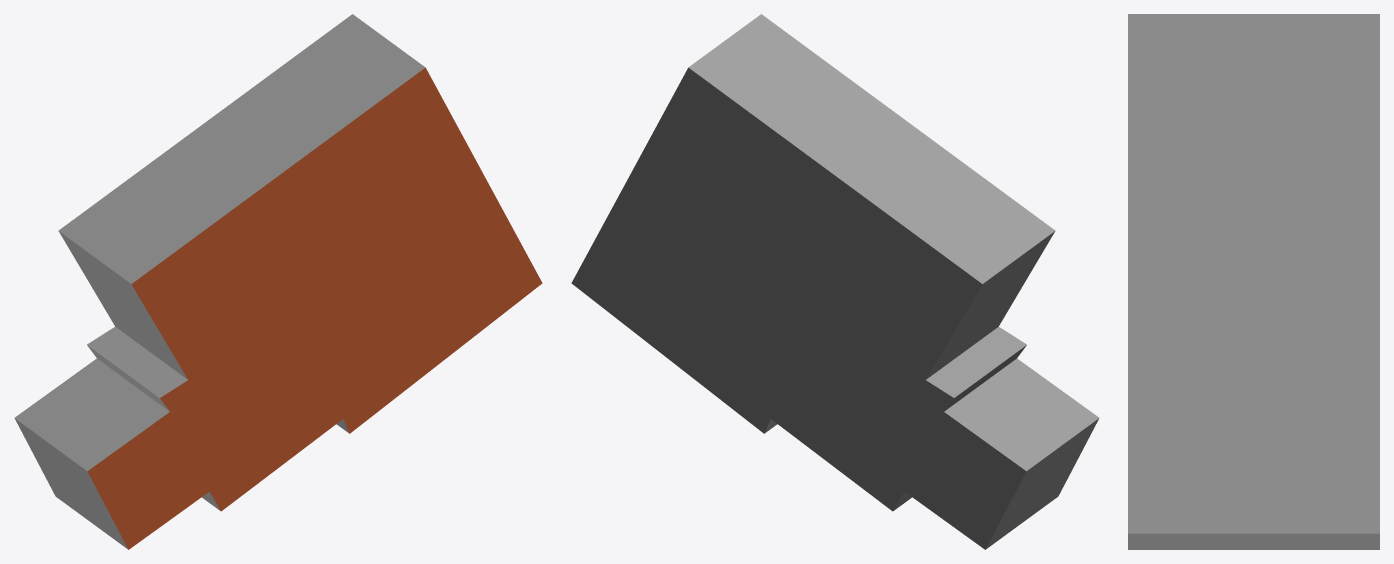
Rendered from construction_4130_assumed_A_Casa_h6m.obj.
3 views of the same model, side by side, from view 1: azimuth 30°, elevation 25°; view 2: azimuth 150°, elevation 25°; view 3: azimuth 270°, elevation 25° (orthographic). The views are drawn at different scales.
Visible parts, largest first — view 1: construction_4130_assumed_A_Casa; view 2: construction_4130_assumed_A_Casa; view 3: construction_4130_assumed_A_Casa.
Part boxes in pixels (bbox=[...]): construction_4130_assumed_A_Casa: bbox=[14, 14, 542, 549]; construction_4130_assumed_A_Casa: bbox=[571, 14, 1099, 549]; construction_4130_assumed_A_Casa: bbox=[1128, 14, 1379, 549].
Size of the model in its own units: 21.58 by 18.58 by 6.
